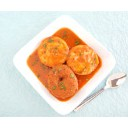idly: (38, 37, 67, 66), (69, 47, 98, 75)
